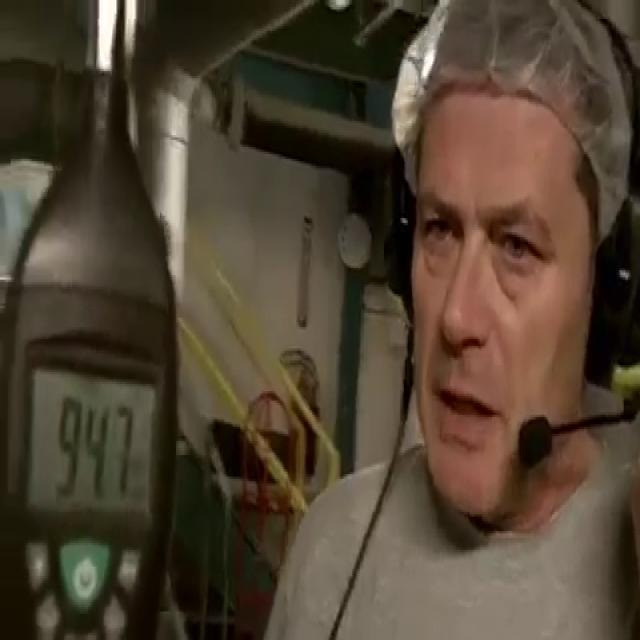earmuff: (593, 192, 640, 410), (380, 133, 424, 316)
